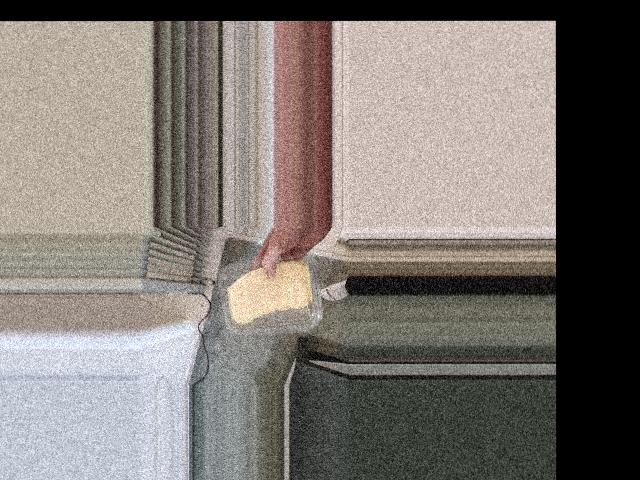cheese: (220, 254, 321, 327)
